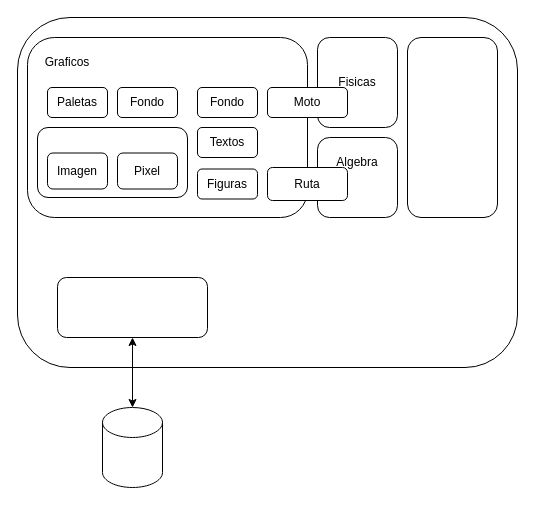
This 535x505 diagram has some shape labels left out. Here are the shapes that lost their labels. From the top down, the centre of each, then its label:
the point at 452,127: Configuracion
the point at 132,307: ROM
